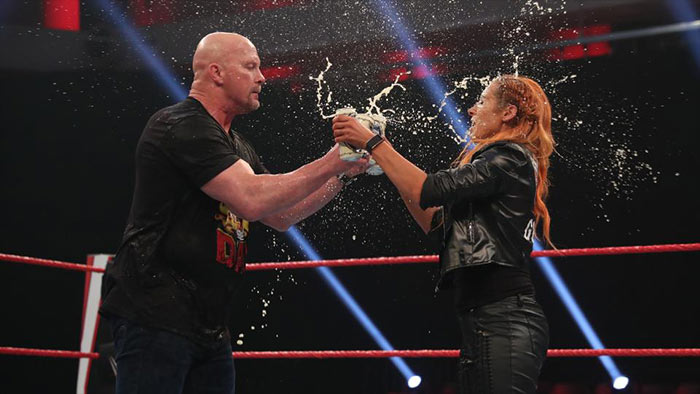Person: (116, 31, 335, 394), (335, 75, 554, 394)
